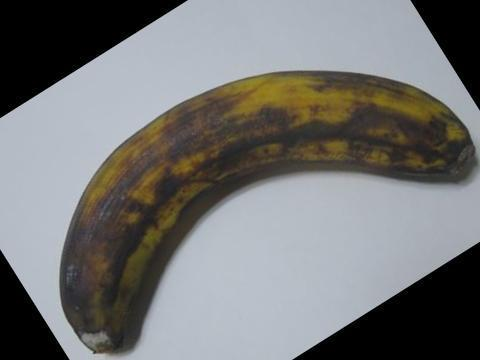overripe: (49, 60, 479, 351)
rotten: (54, 259, 138, 359)
